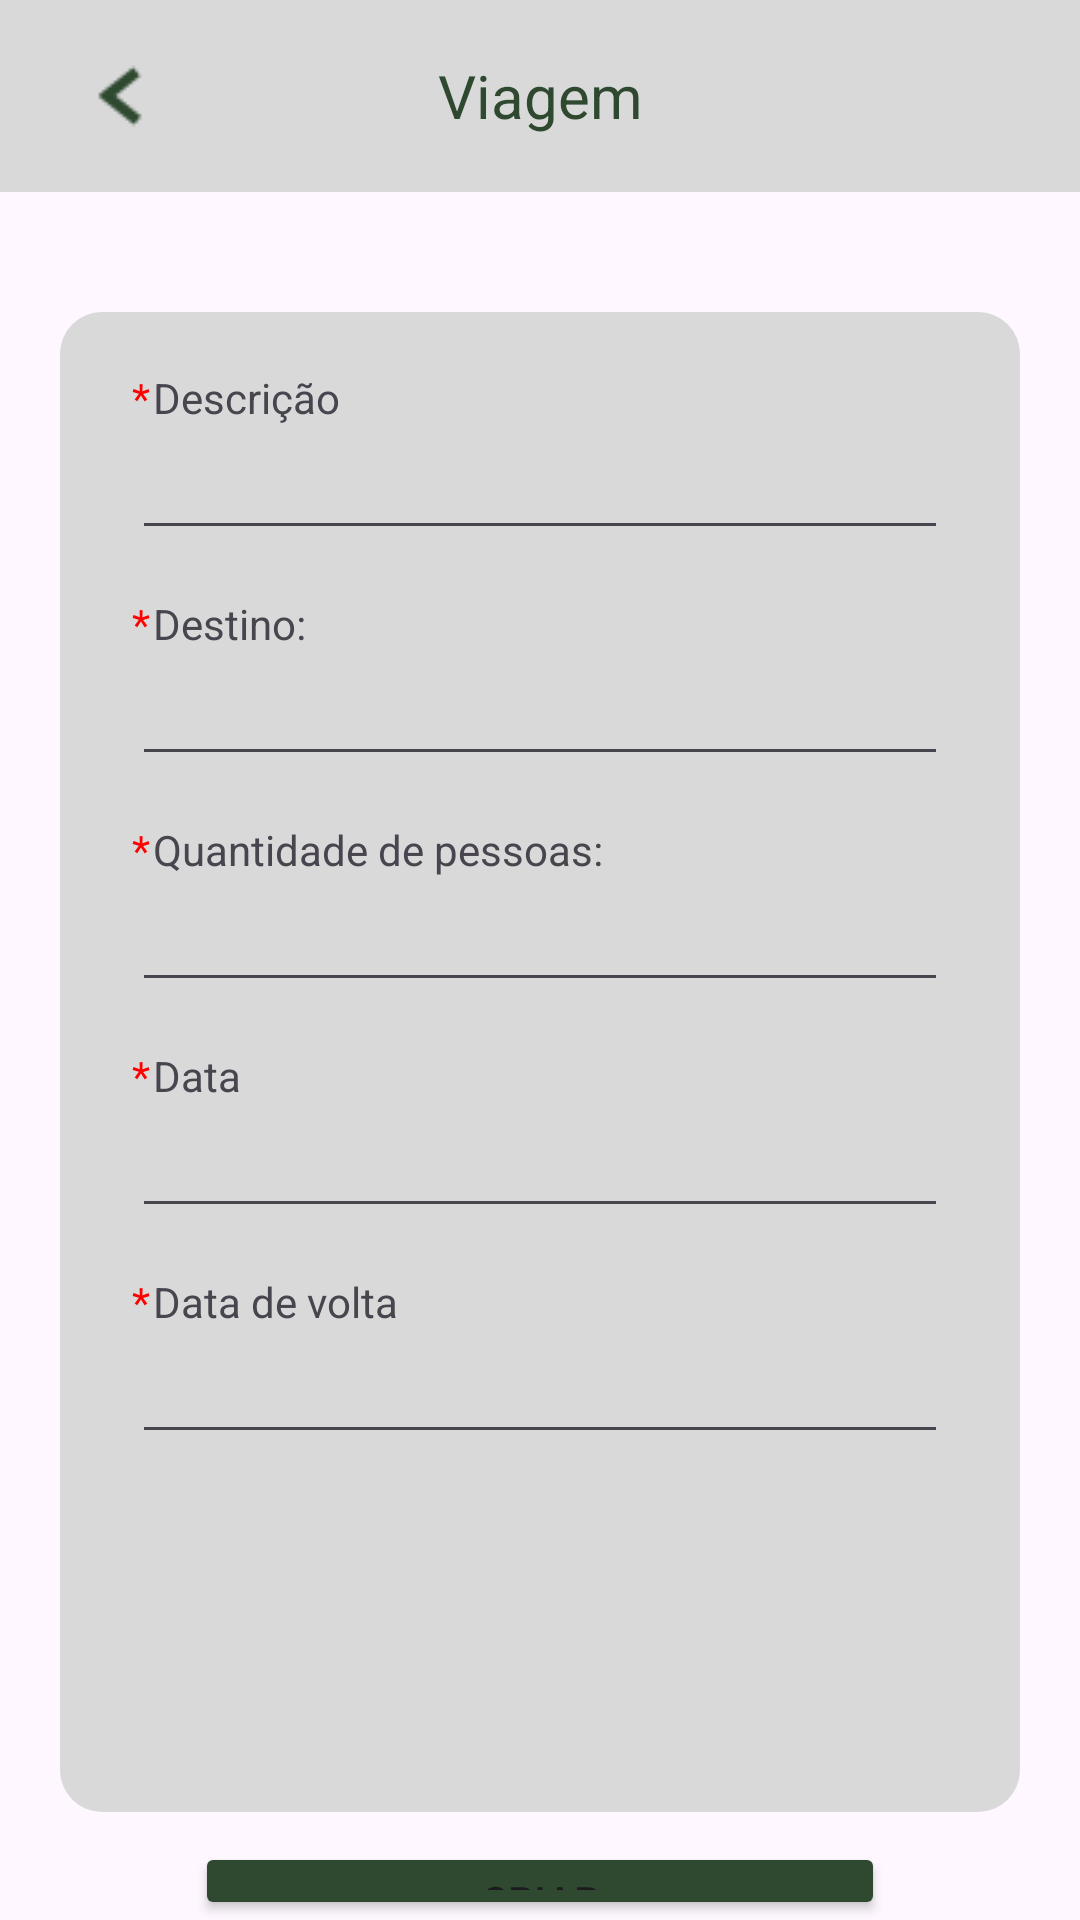

Screen size 1080*1920. Icon name, then its box in pixels as (x1=x1, y1=y1, x2=x2, y2=y2):
Voltar: (x1=98, y1=66, x2=142, y2=126)
